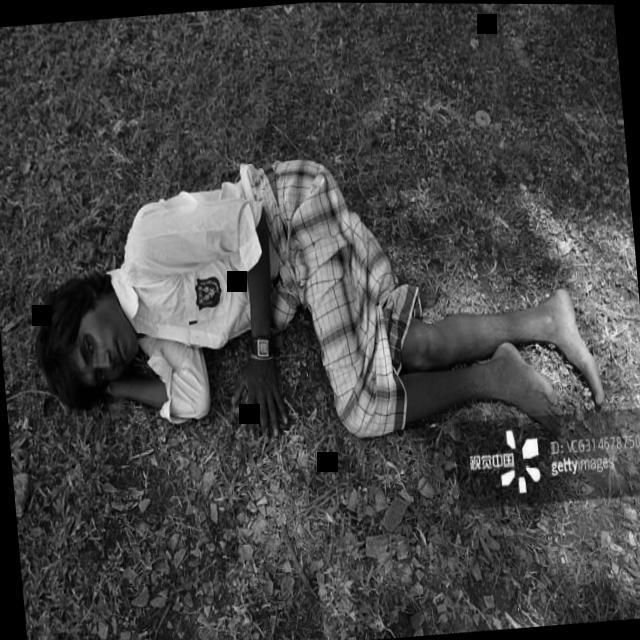Fall-Detected: (12, 111, 602, 516)
